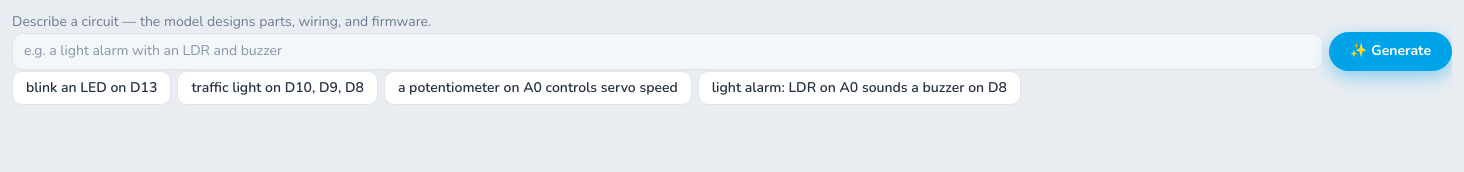
SpawnSection › self-repairs once and fails honestly on repeated garbage
In the field with placeholder "e.g. a light alarm with an LDR and buzzer": (668, 51) [12,33,1323,70], type "bogus"
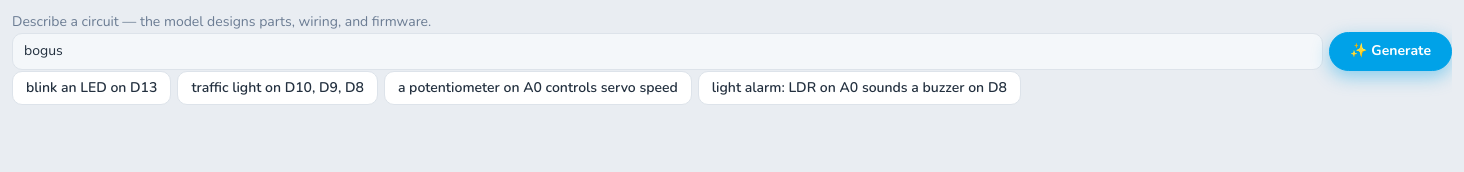
Click the button "✨ Generate": (1391, 51) [1329,32,1452,71]
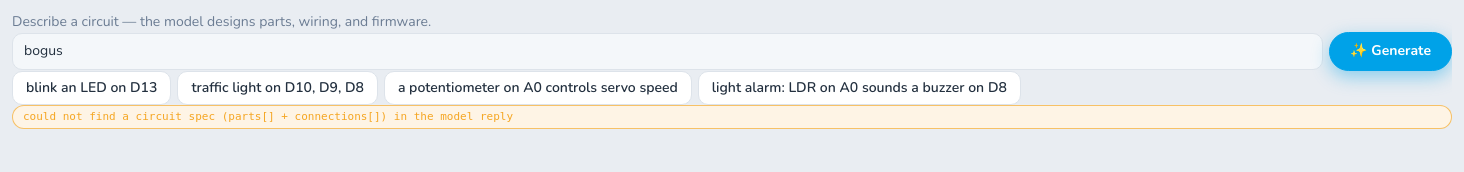
Expected: the text "could not find a circuit spec" is shown, [23,110,513,123]
